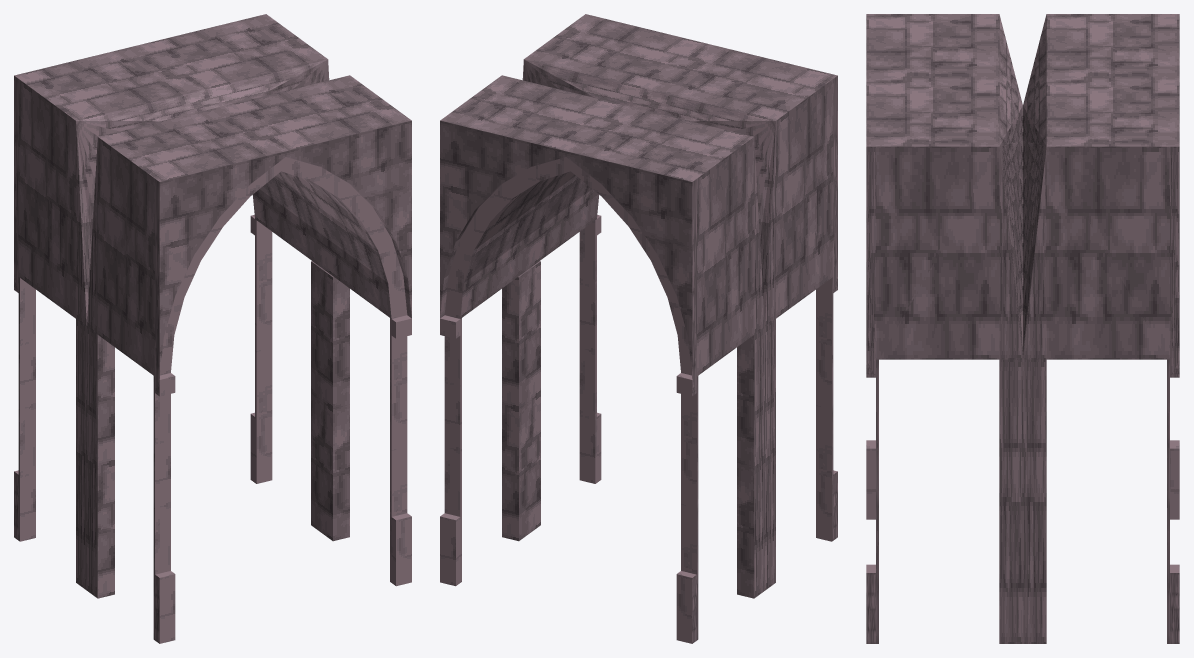
The model's file is door_frame_locked_a.glb.
3 views of the same model, side by side, from view 1: azimuth 30°, elevation 25°; view 2: azimuth 150°, elevation 25°; view 3: azimuth 270°, elevation 25° (orthographic). The views are drawn at different scales.
Parts seen in each view (by area): view 1: portal_front, portal_back; view 2: portal_back, portal_front; view 3: portal_back, portal_front.
Boxes of the visible parts, x1,y1,x2,y2 form: portal_front: (87,75,411,643); portal_back: (14,14,329,590); portal_back: (440,75,764,643); portal_front: (522,14,837,590); portal_back: (1023,14,1179,643); portal_front: (866,14,1022,643).
Bounding box in the file's own units: 2 × 3.5 × 2.
Materials: 1 (1 with a texture image).
